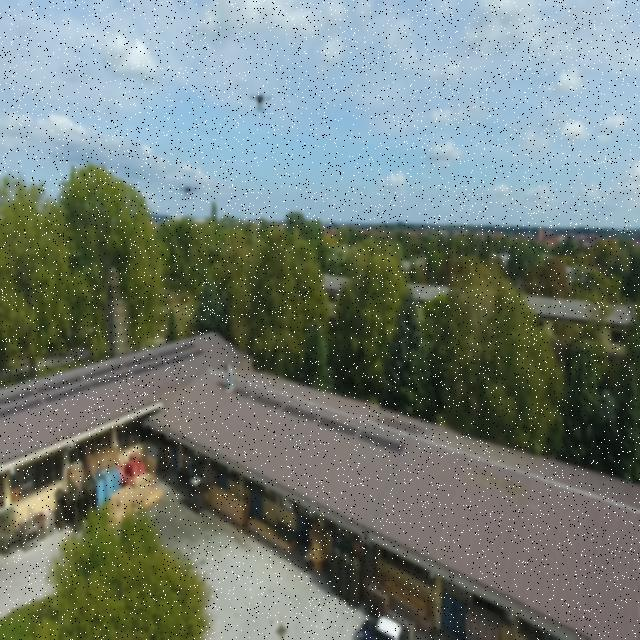UAV: (246, 85, 276, 116), (174, 180, 202, 202)
